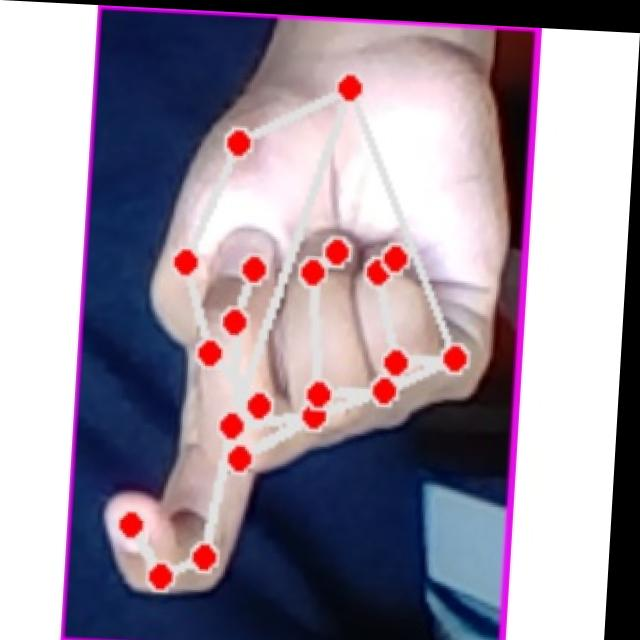Z: (104, 36, 523, 615)
